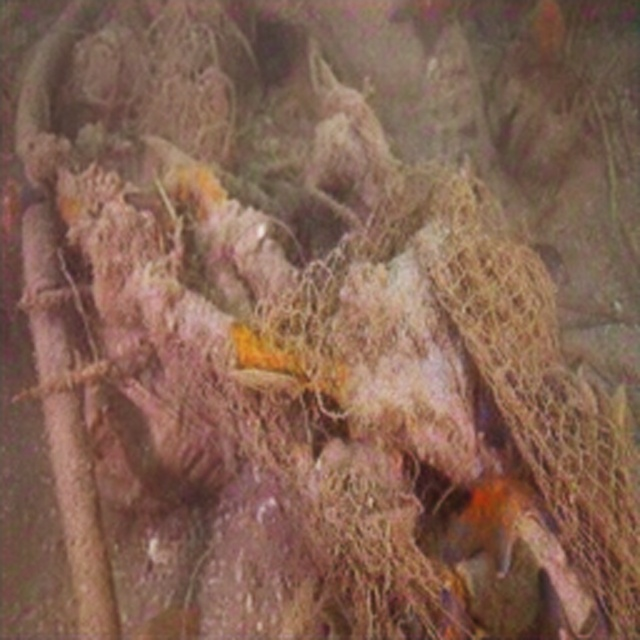mine: (434, 155, 640, 639), (253, 0, 492, 191)
